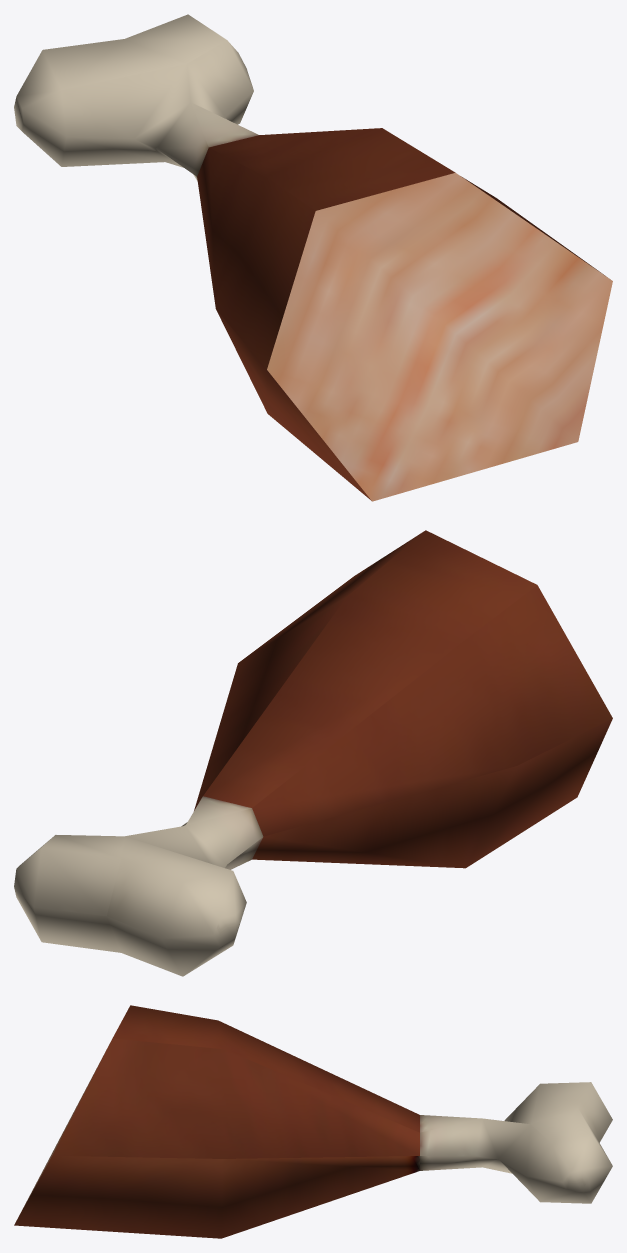
Rendered from ChickenLeg_V2.fbx.
3 renders of one model, top to bottom at view 1: azimuth 30°, elevation 25°; view 2: azimuth 150°, elevation 25°; view 3: azimuth 270°, elevation 25°, orthographic. The views are drawn at different scales.
Visible parts, largest first — view 1: ChickenLeg_V2; view 2: ChickenLeg_V2; view 3: ChickenLeg_V2.
Part boxes in pixels (x1,y1,x2,y2): ChickenLeg_V2: (14, 14, 612, 501); ChickenLeg_V2: (14, 530, 612, 976); ChickenLeg_V2: (14, 1005, 612, 1238).
Size of the model in its own units: 0.1009 by 0.0854 by 0.2353.
